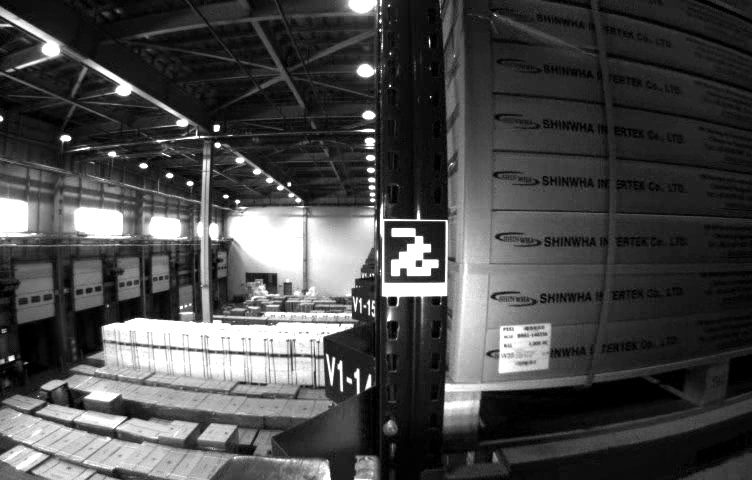True Barcode: (498, 323, 551, 371)
